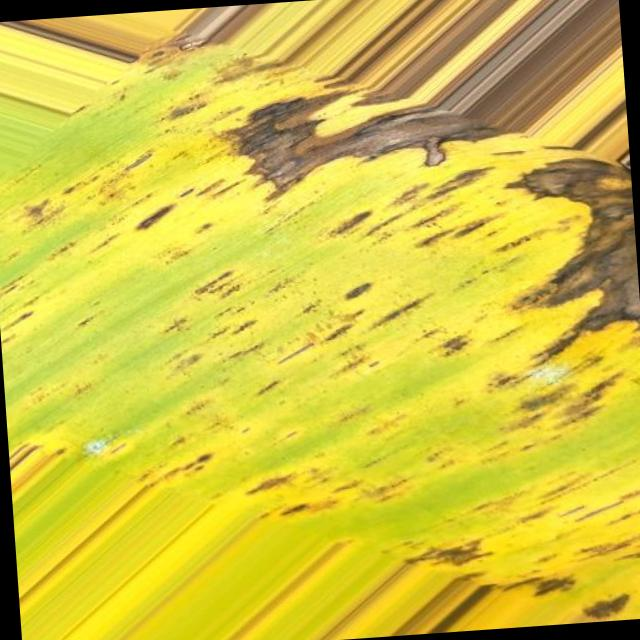Banana_Black_Sigatoka: (157, 19, 640, 383)
